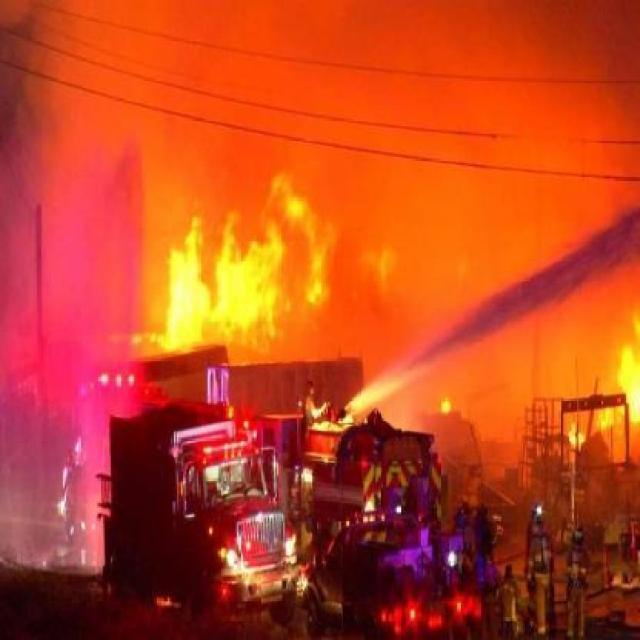Fire: (158, 190, 384, 344), (569, 321, 640, 474)
Smoke: (14, 76, 131, 590)
